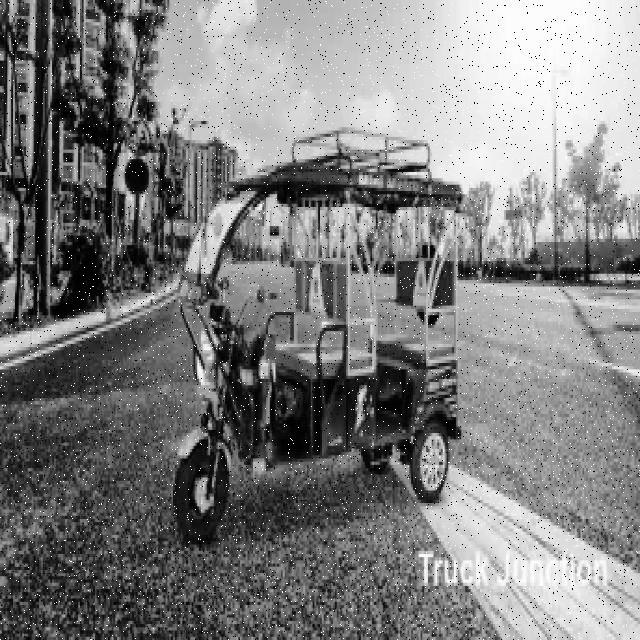Toto: (163, 158, 467, 552)
